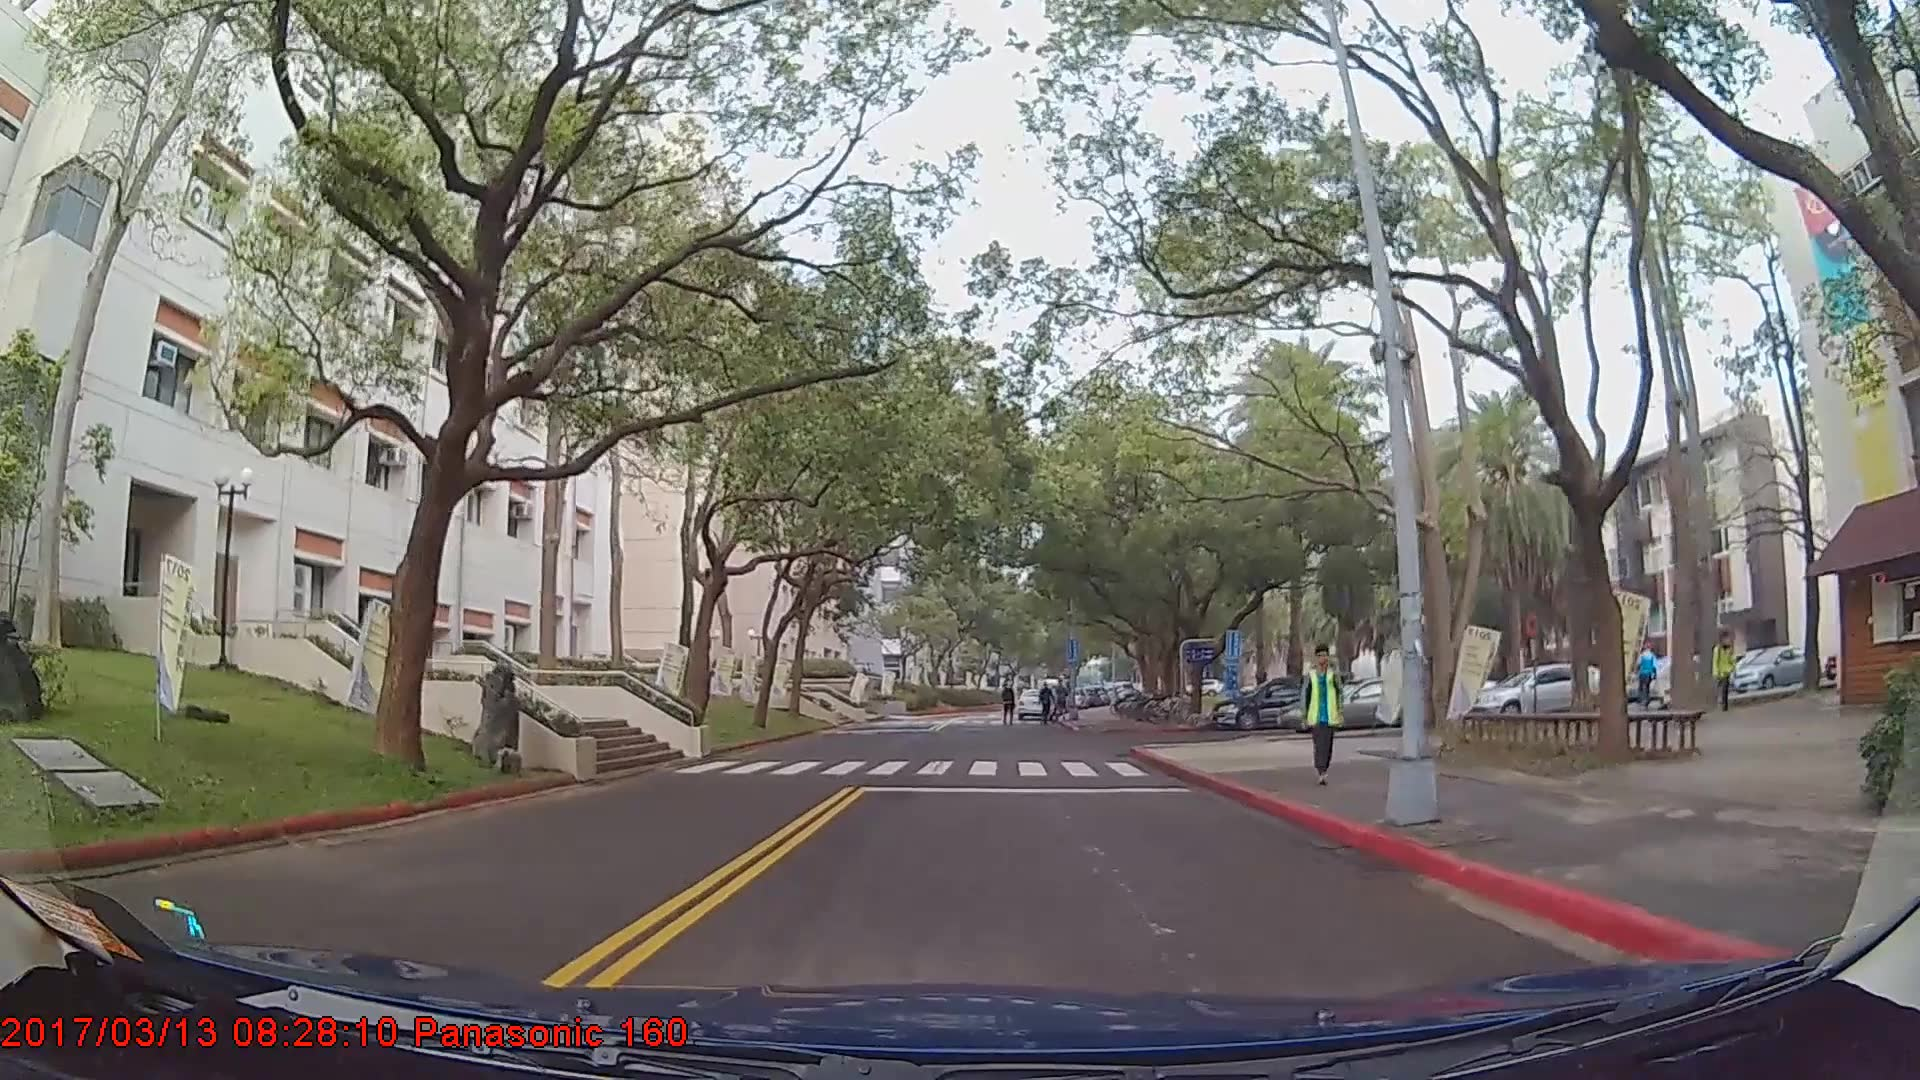pedestrian: (1303, 646, 1350, 788), (1637, 636, 1665, 720), (1713, 634, 1739, 716), (1038, 683, 1058, 727)
vehicle: (1468, 663, 1611, 723), (1290, 675, 1438, 732), (1215, 672, 1337, 728), (1729, 644, 1815, 695), (1016, 689, 1049, 719)
